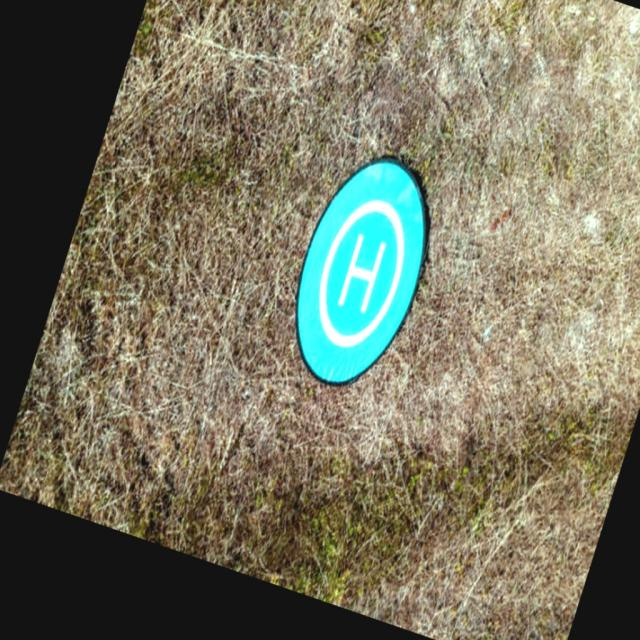helipad: (315, 197, 404, 348)
